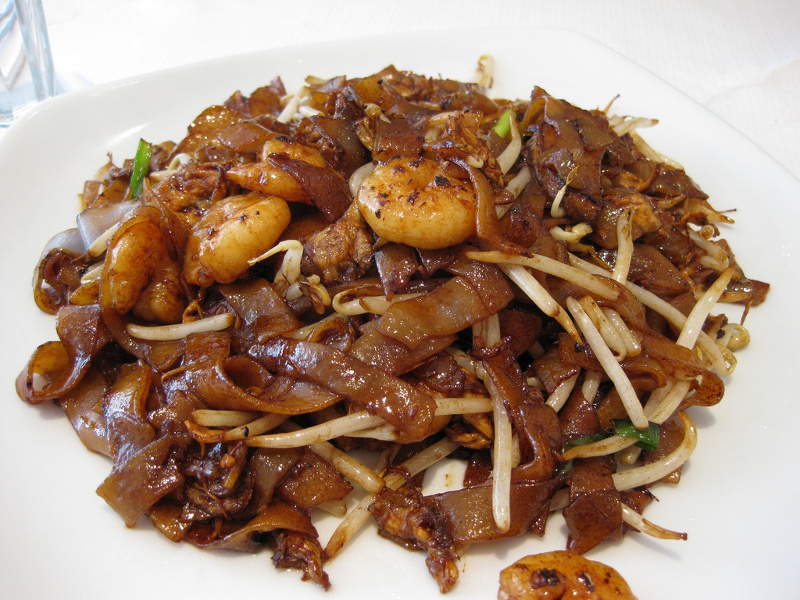Char Kway Teow: (35, 47, 779, 581)
